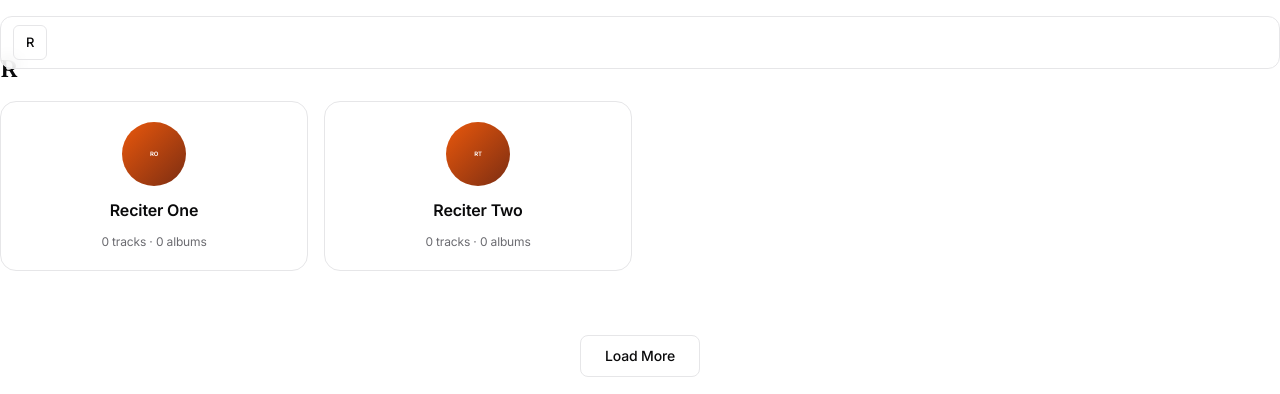
Test: ReciterGrid › appends new reciters when Load More is clicked
The width and height of the screenshot is (1280, 394).
Click the button "Load More". click: {"x": 640, "y": 356}
box: [580,335,700,377]
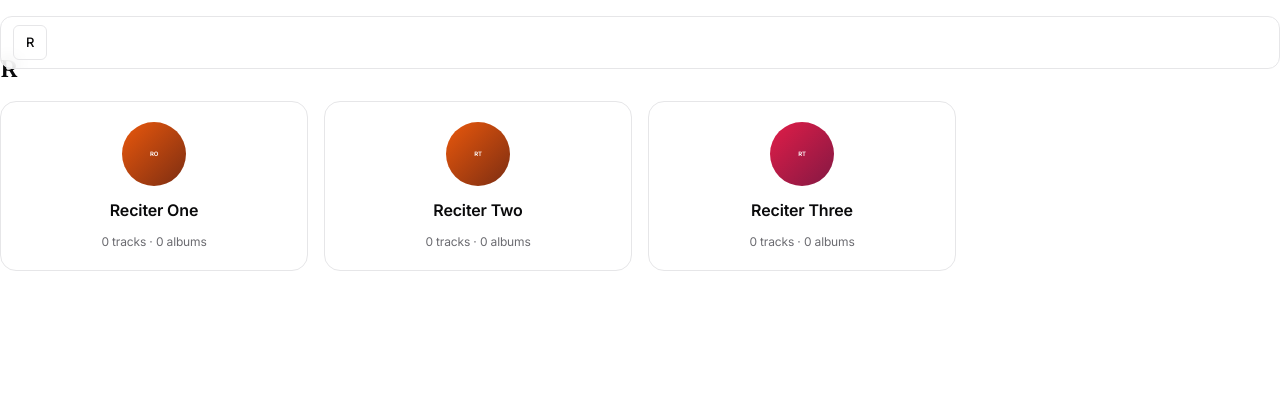
Check: the text "Reciter One" is shown, box [110,198,198,222]
Check: the text "Reciter Three" is shown, box [751,198,853,222]
